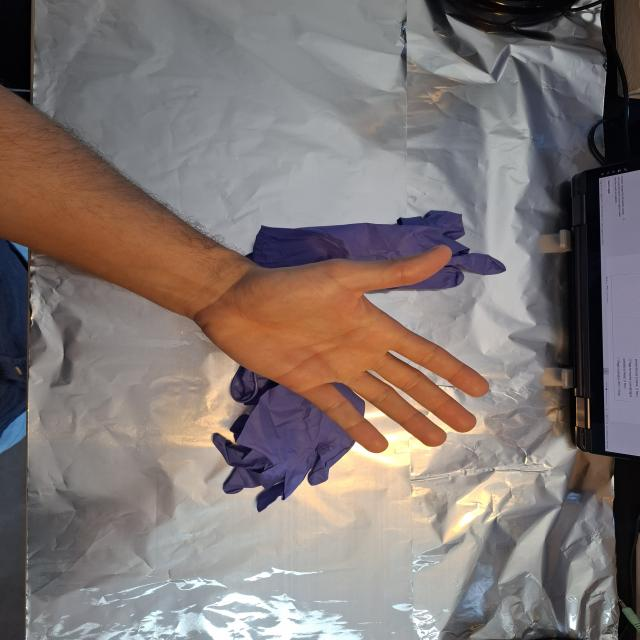glove_off: (191, 242, 491, 455)
